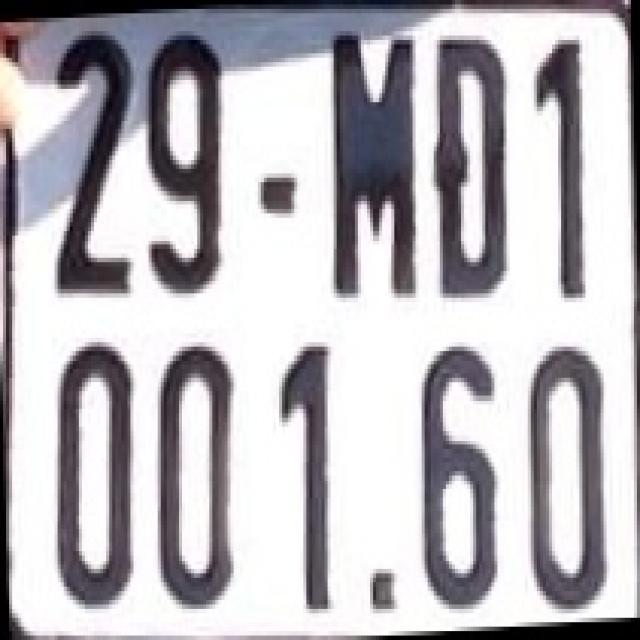0: (154, 338, 240, 609), (55, 338, 136, 609), (528, 342, 610, 609)
1: (276, 338, 346, 614), (534, 35, 592, 298)
2: (52, 26, 136, 298)
6: (416, 338, 500, 609)
9: (142, 27, 228, 294)
D: (430, 31, 512, 302)
M: (323, 14, 426, 302)
